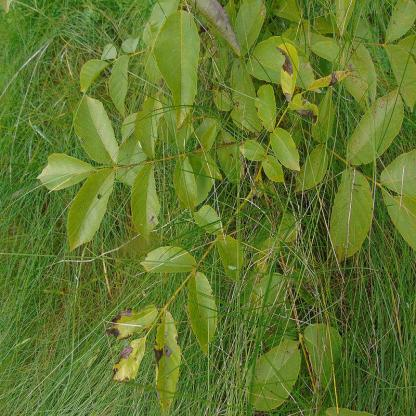Green-Leafhopper: (225, 262, 238, 272), (77, 136, 86, 147), (136, 139, 144, 149)
